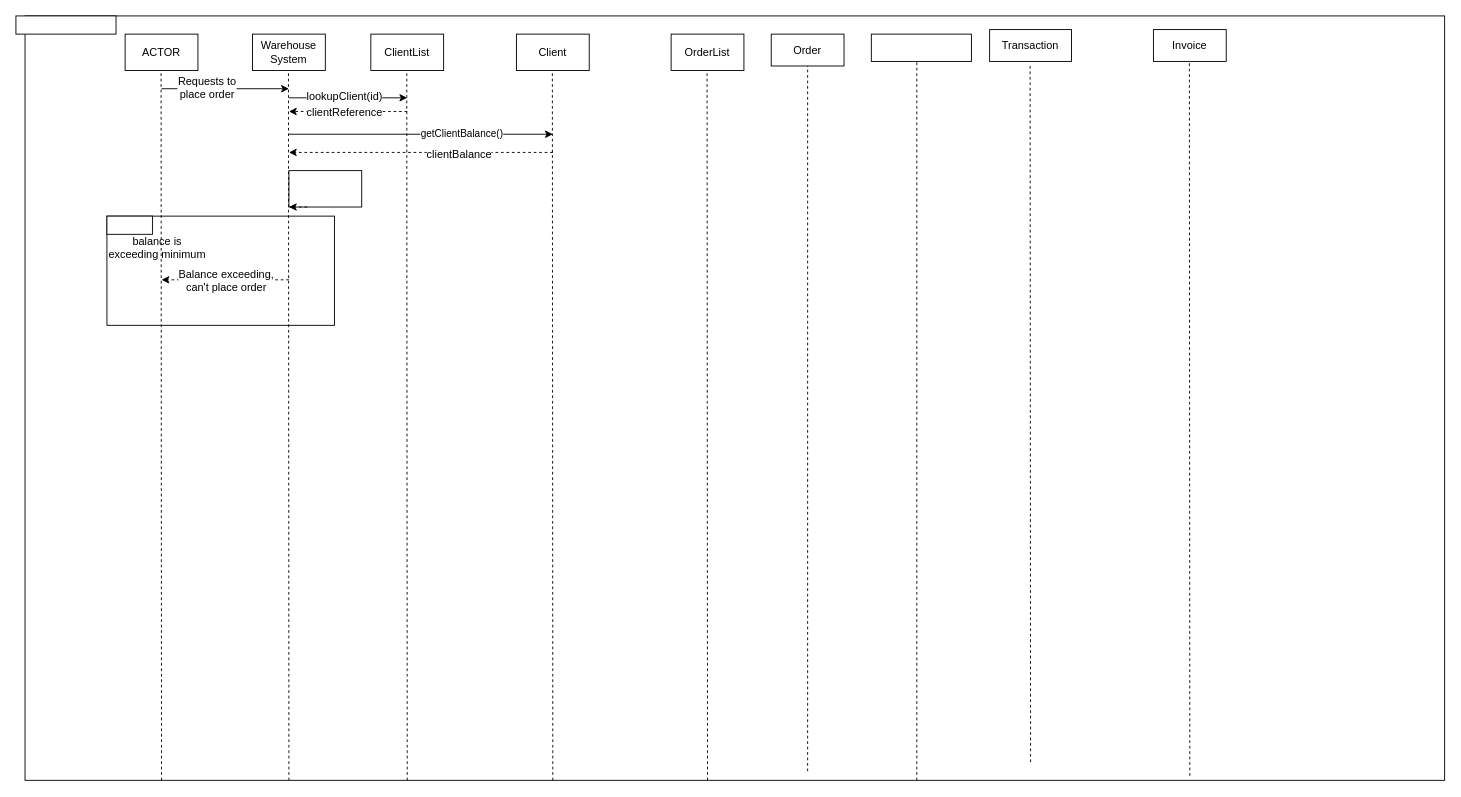
This 1461x797 diagram has some shape labels left out. Each missing label, with the box of its shape:
isBalance Exceeding(): (288, 170, 362, 207)
opt: (106, 215, 152, 234)
Product: (870, 33, 971, 61)
SD Placing Order: (15, 15, 116, 34)
